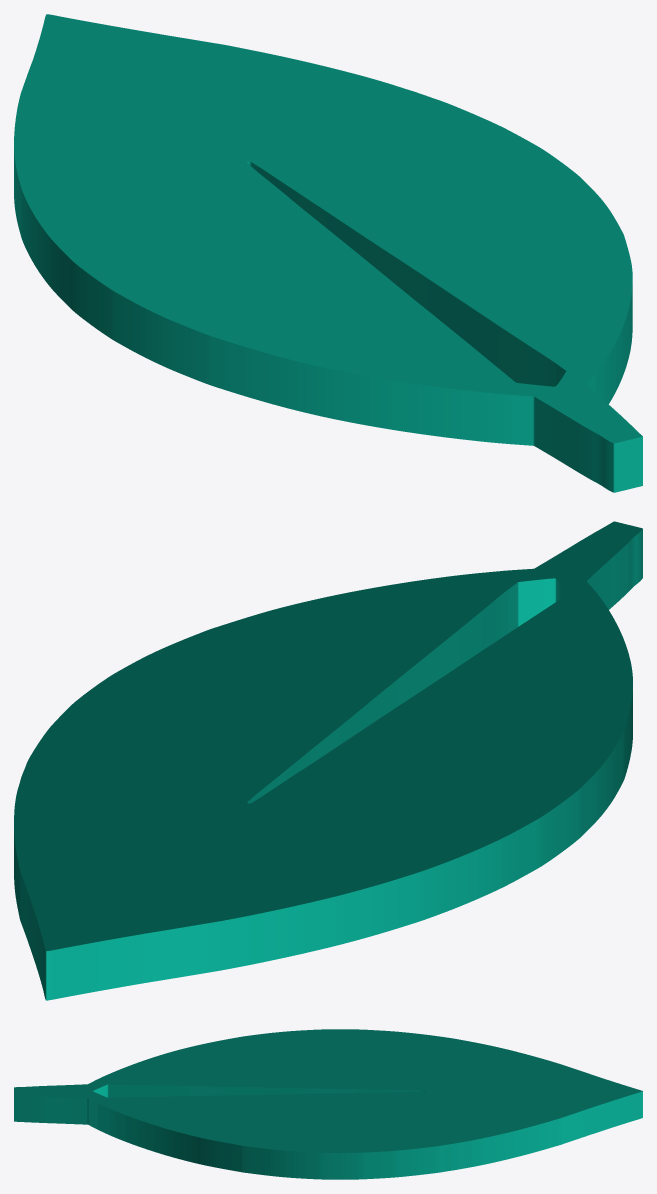
The model's file is mongodb.glb.
3 renders of one model, top to bottom at view 1: azimuth 30°, elevation 25°; view 2: azimuth 150°, elevation 25°; view 3: azimuth 270°, elevation 25°, orthographic. The views are drawn at different scales.
Size of the model in its own units: 3.91 by 0.3938 by 8.41.
